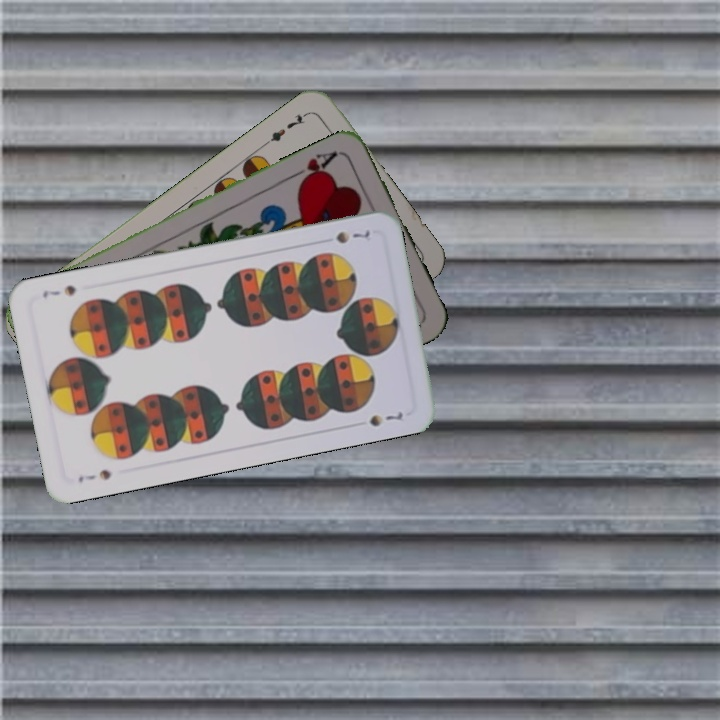E7: (260, 108, 312, 148)
HA: (288, 146, 343, 188)
S7: (332, 225, 373, 247), (74, 465, 114, 485)
